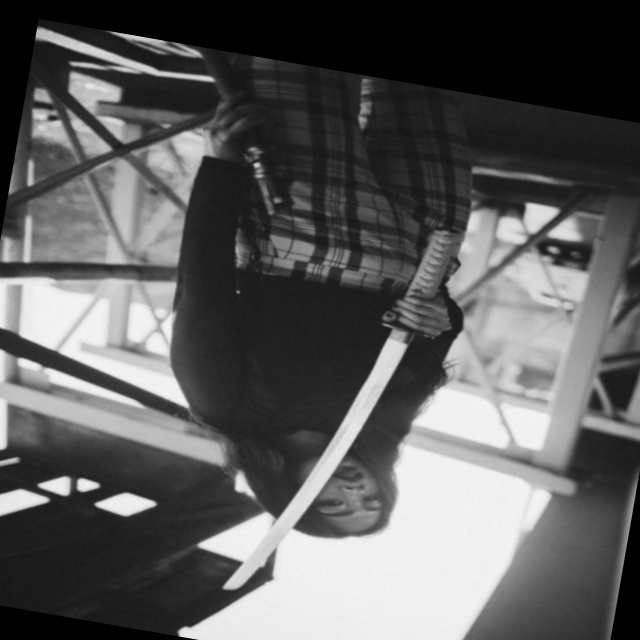Sharp-Object: (214, 208, 468, 628)
